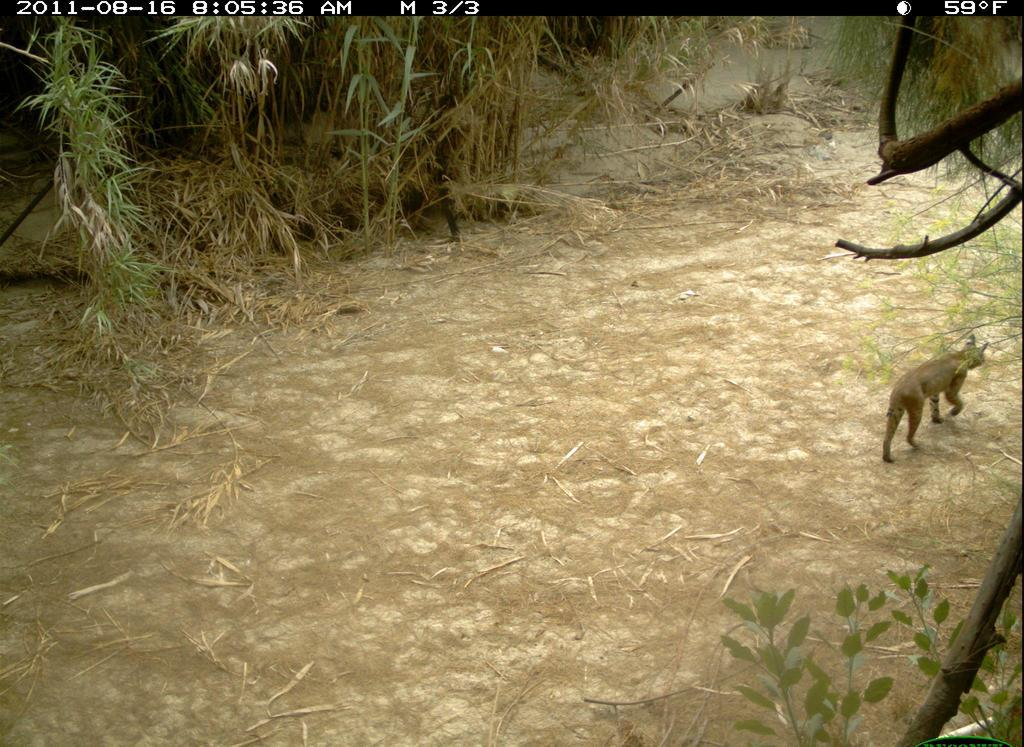bobcat: (879, 335, 996, 466)
